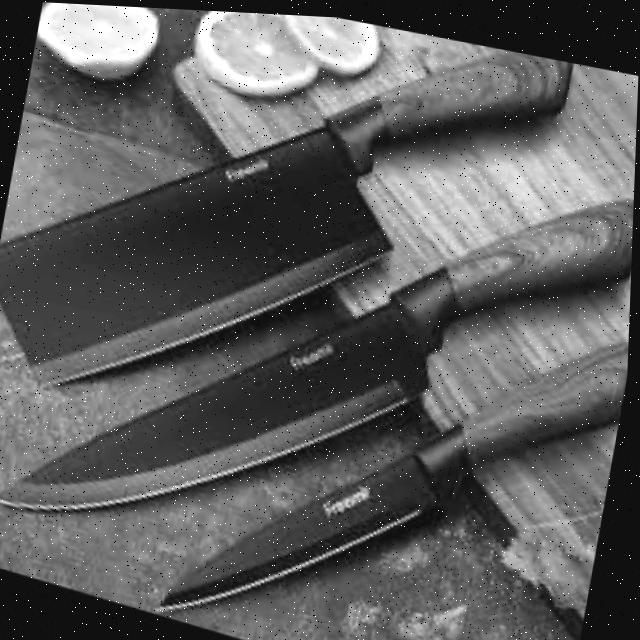knife: (0, 86, 637, 615), (0, 0, 578, 477), (155, 252, 633, 640)
